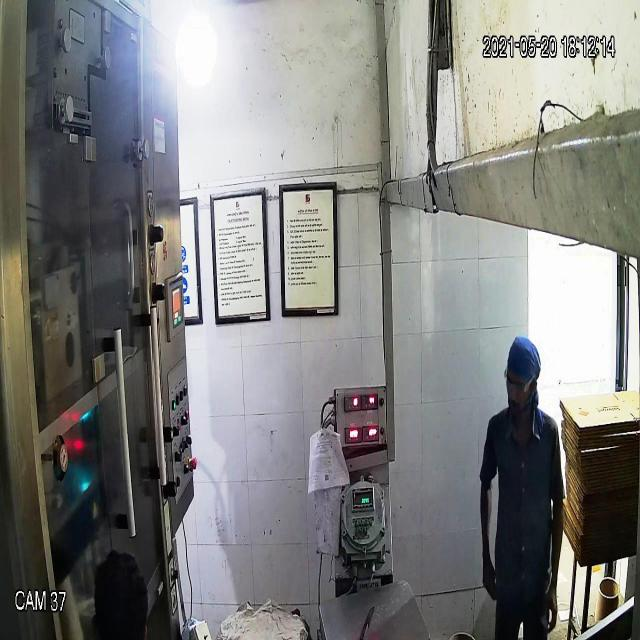glasses: (502, 363, 536, 398)
